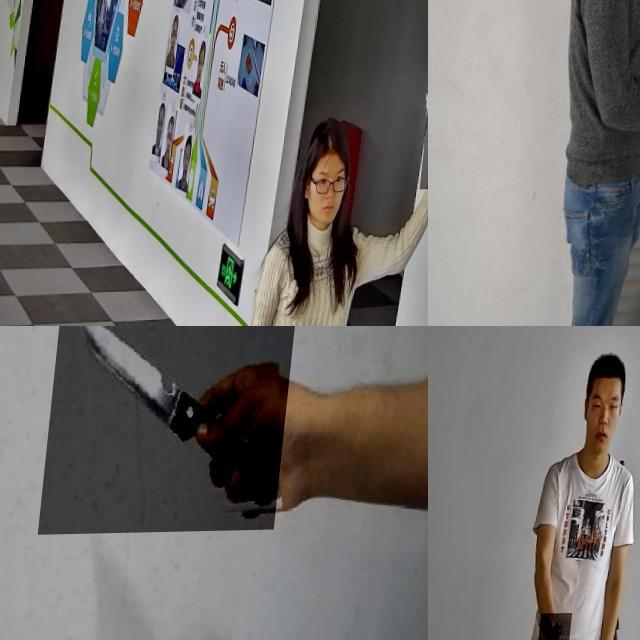-: (46, 326, 302, 536)
gun-knife-thesis - v11 Yolov5 augmented: (541, 614, 580, 640)
